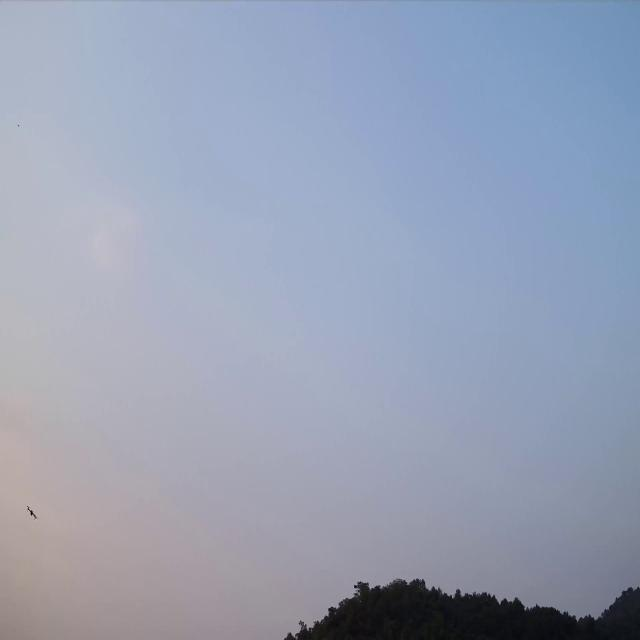UAV: (26, 504, 38, 522)
